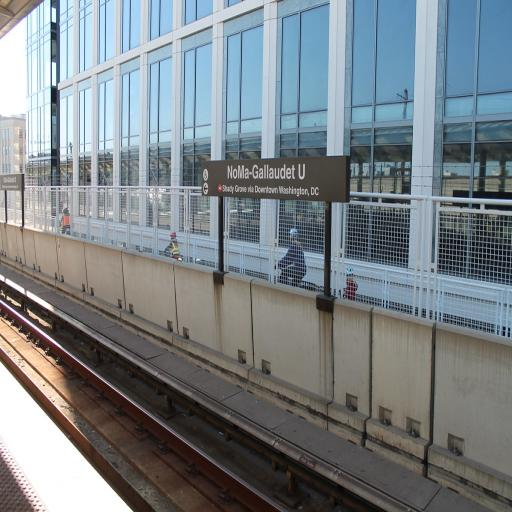platform_edge: (0, 354, 150, 512)
